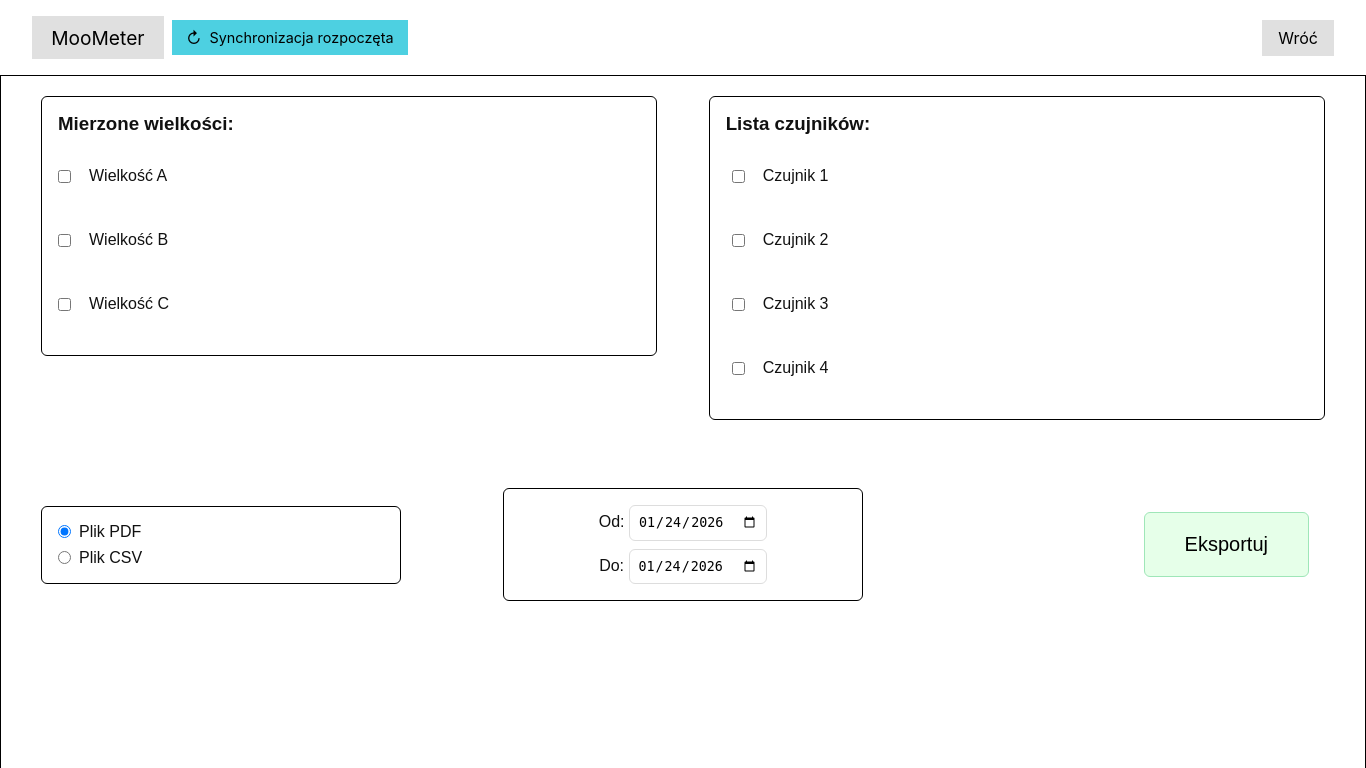
Test: ExportPanel – UI and validation display › powinien wyświetlić błąd gdy nie wybrano wymaganych danych (basic UX check)
Click the button "Eksportuj". click: (1226, 544)
box: [1144,512,1309,577]
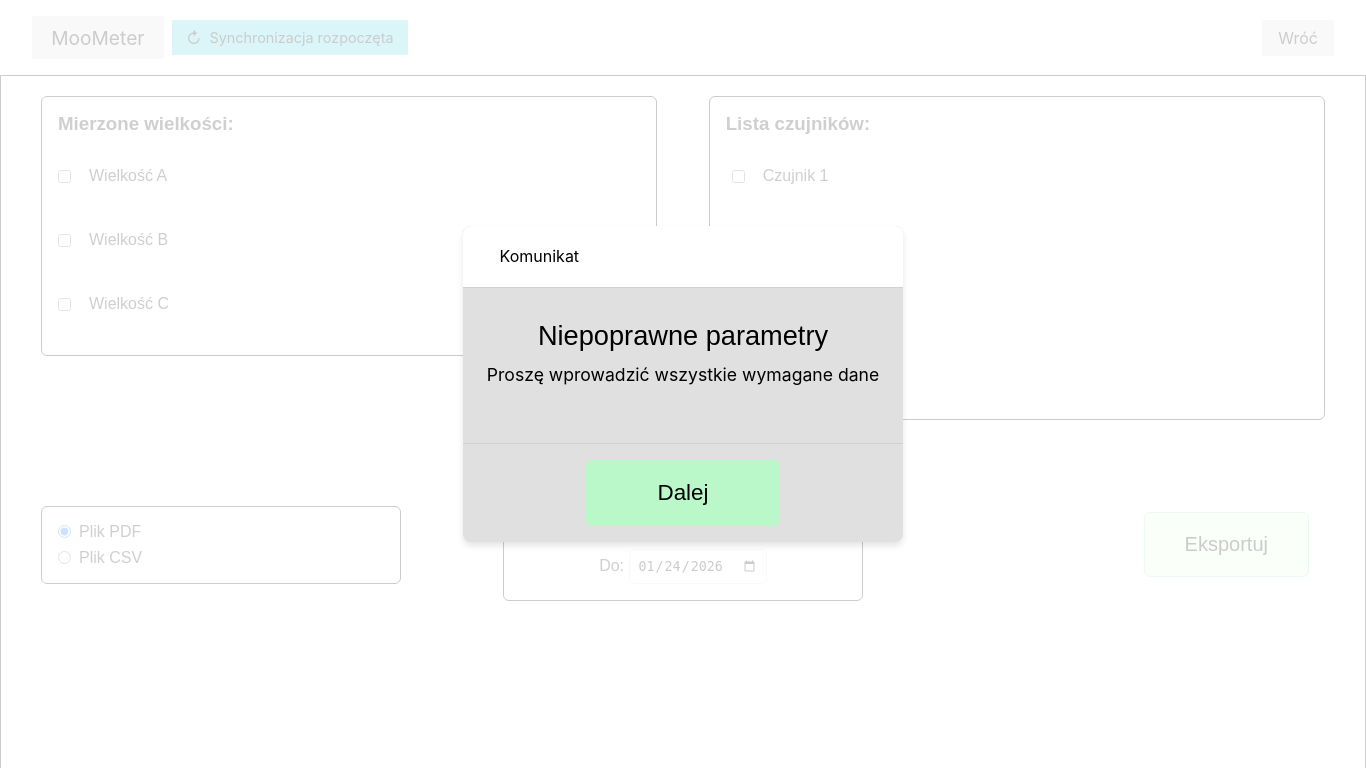
Now the text "Niepoprawne parametry" is shown, box [538,320,828,351]
Now the text "Proszę wprowadzić wszystkie wymagane dane" is shown, box [487,362,879,389]
